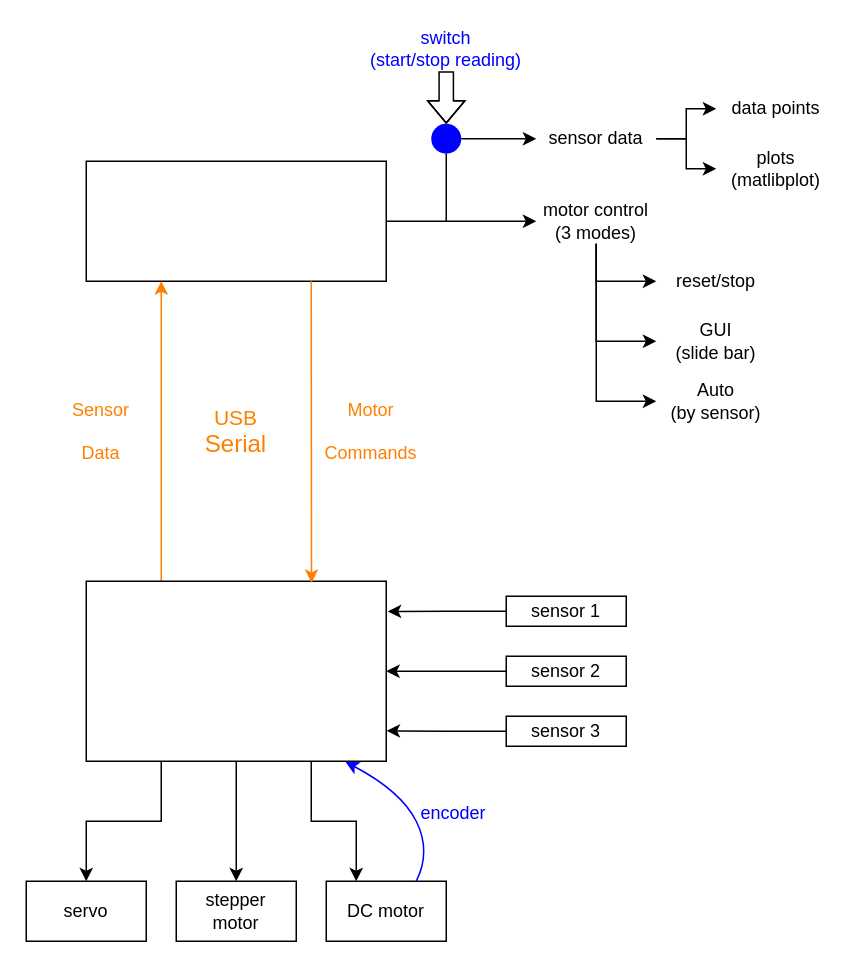
Image size: 863x968. Some labels were removed from this diagram. The centre of each missing label's shape, as x and y in pixels:
Arduino: point (235, 670)
GUI: point (235, 220)
